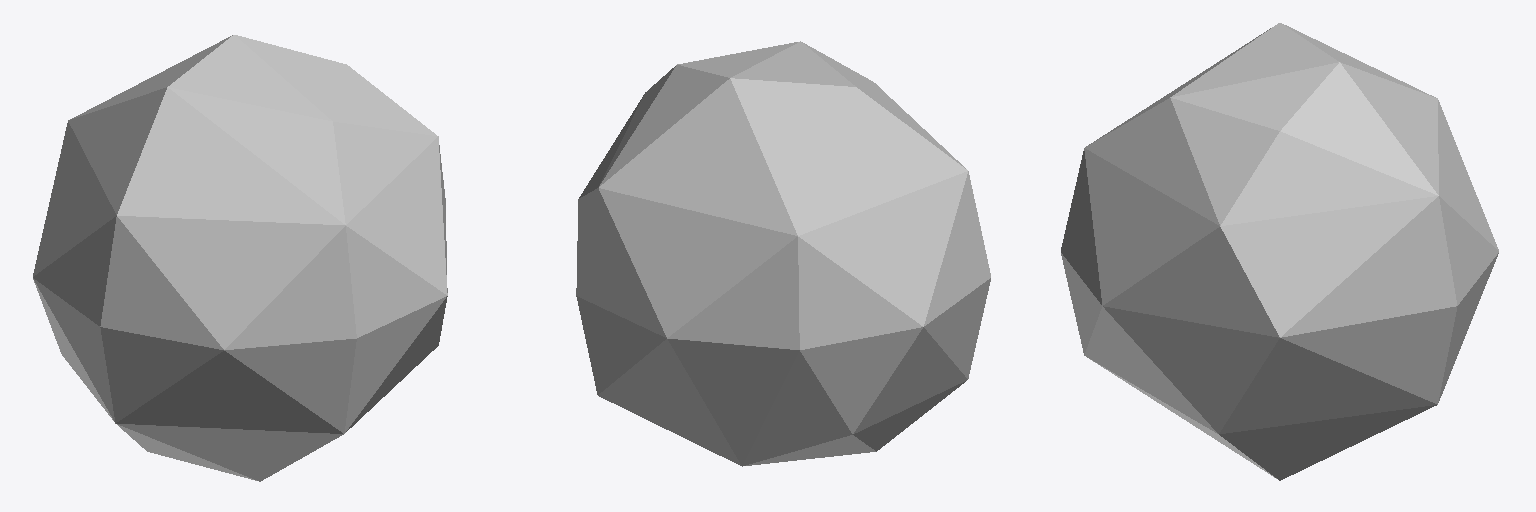
File: Football.obj
The picture shows the model from 3 angles: view 1: azimuth 30°, elevation 25°; view 2: azimuth 150°, elevation 25°; view 3: azimuth 270°, elevation 25°; orthographic projection.
Parts seen in each view (by area): view 1: Icosphere; view 2: Icosphere; view 3: Icosphere.
Part boxes in pixels (x1,y1,x2,y2): Icosphere: (33,35,447,481); Icosphere: (576,41,990,466); Icosphere: (1061,23,1498,480).
Size of the model in its own units: 0.6982 by 0.696 by 0.7.